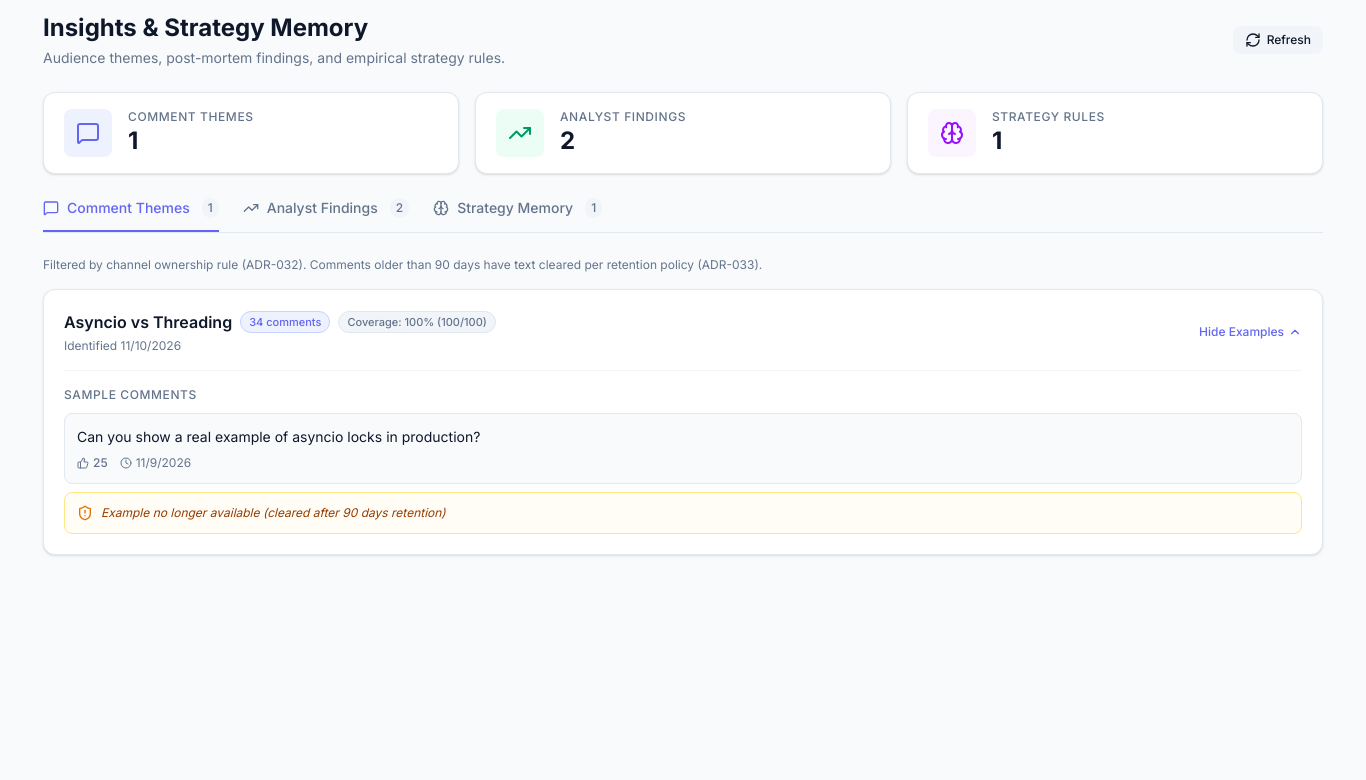
Test: InsightsScreen › navigates to Analyst Findings tab and filters by confidence
The image size is (1366, 780).
expect the heading "Asyncio vs Threading" is shown: met, box x1=64 y1=310 x2=232 y2=334
// Click on Analyst Findings tab
Click the tab "Analyst Findings 2".
click(326, 215)  # box x1=243 y1=198 x2=409 y2=232
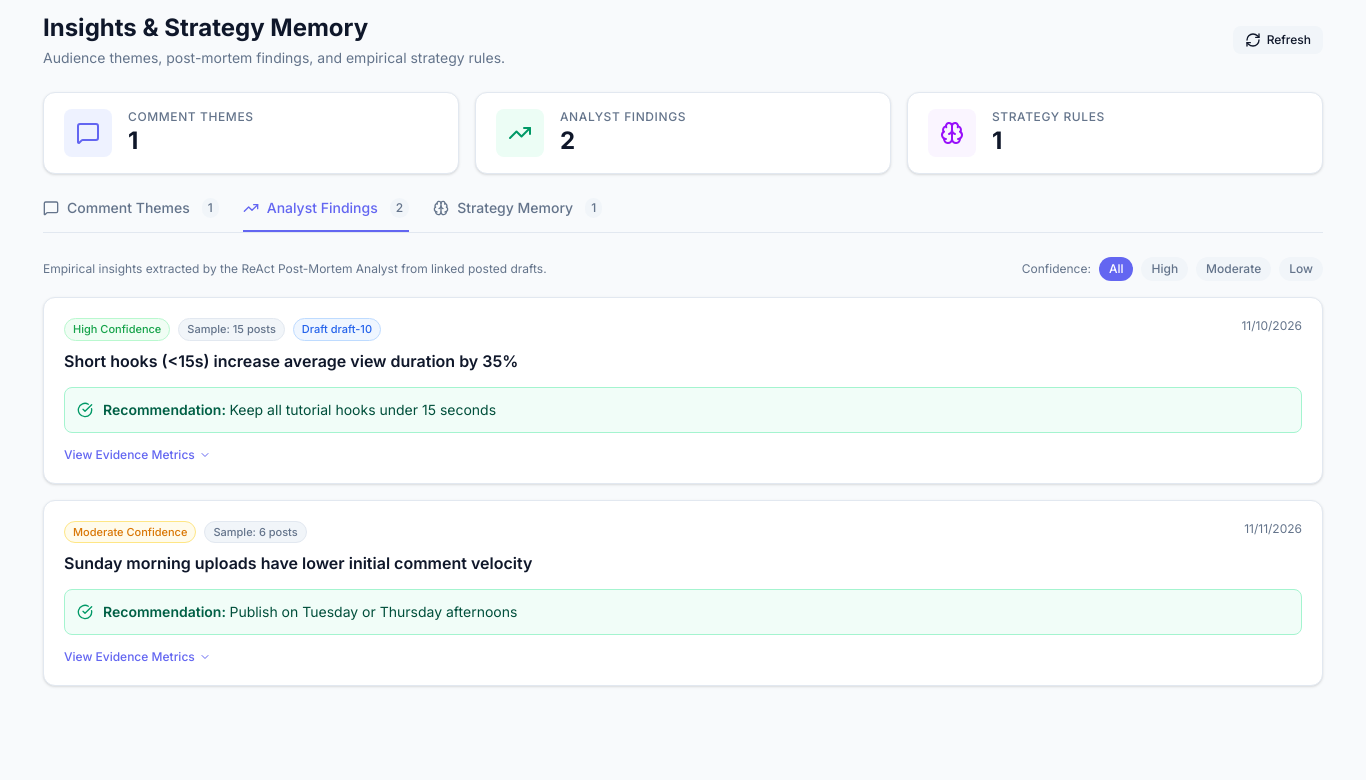
expect the heading "Short hooks (<15s) increase average view duration by 35%" is shown: met, box x1=64 y1=344 x2=518 y2=372
expect the heading "Sunday morning uploads have lower initial comment velocity" is shown: met, box x1=64 y1=547 x2=532 y2=575
expect the text "high confidence" is shown: met, box x1=64 y1=318 x2=170 y2=340
// Filter by high confidence
Click the button "high".
click(1165, 269)  # box x1=1142 y1=257 x2=1188 y2=281
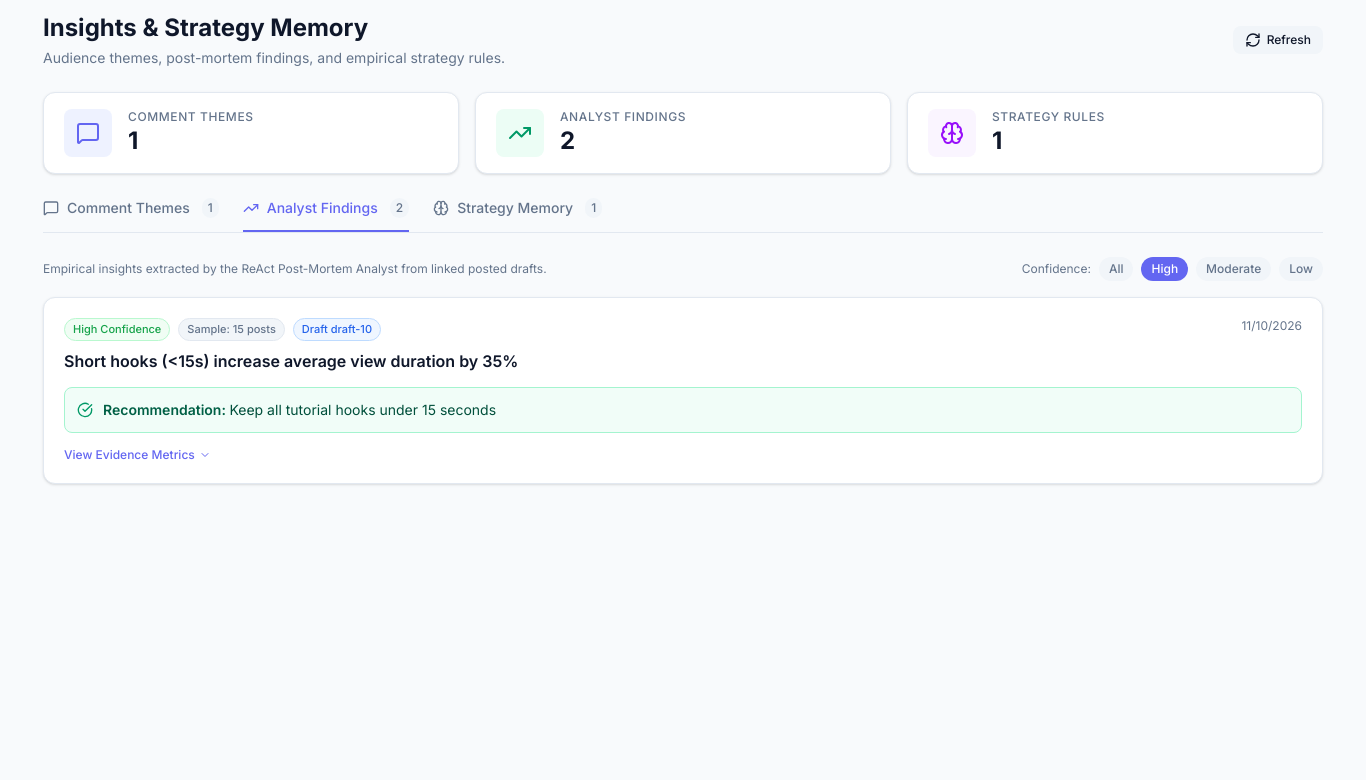
expect the heading "Short hooks (<15s) increase average view duration by 35%" is shown: met, box x1=64 y1=344 x2=518 y2=372
expect the heading "Sunday morning uploads have lower initial comment velocity" is gone: met
